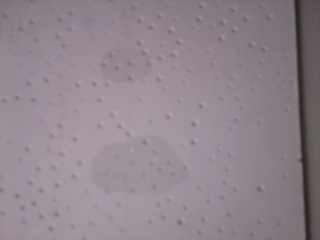Water_detected: (82, 126, 173, 201), (93, 32, 154, 83)
